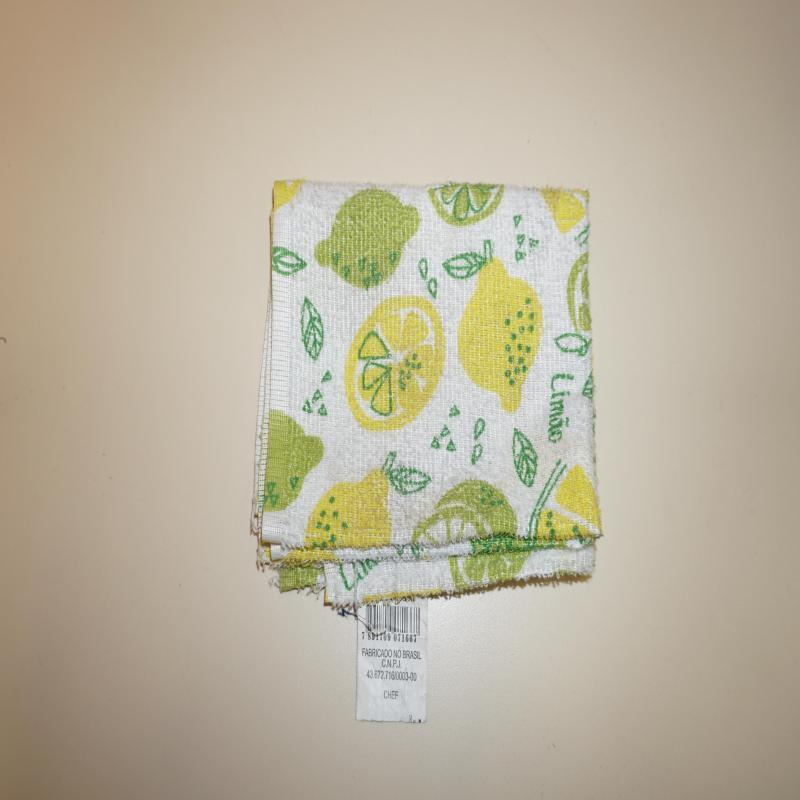Cloth: (249, 179, 604, 728)
